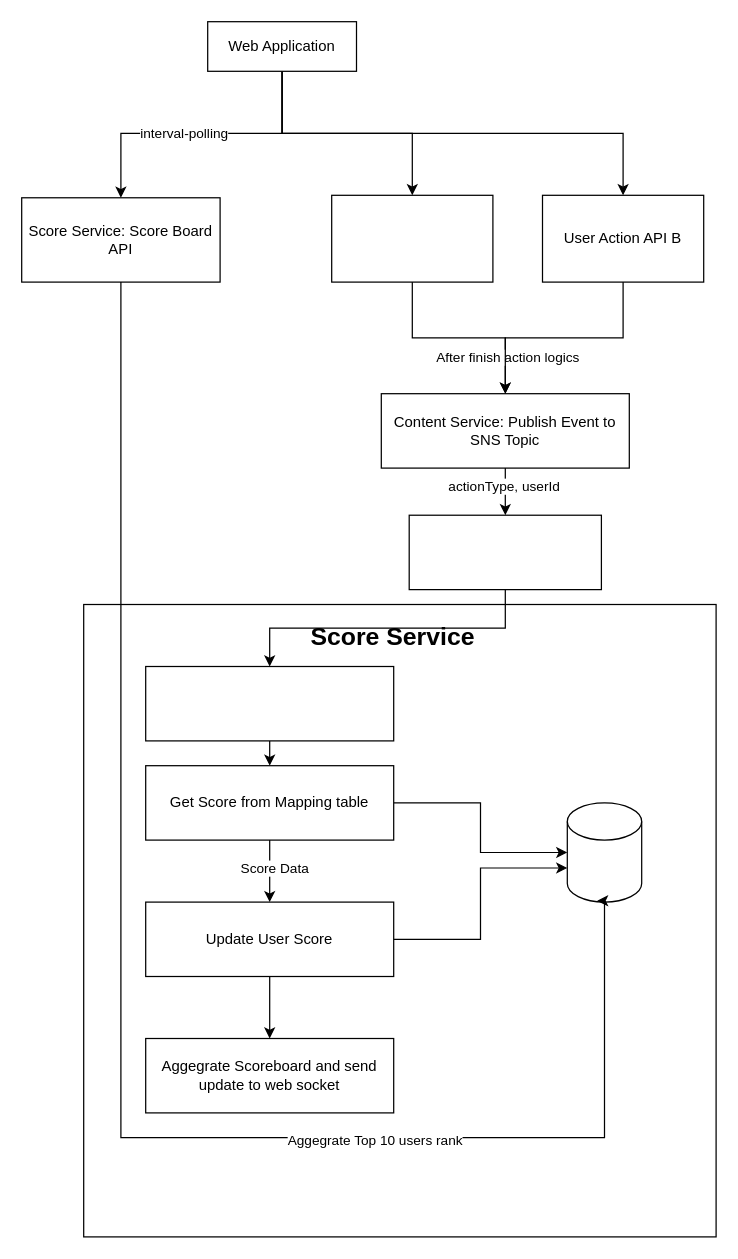
This 738x1259 diagram has some shape labels left out. Each missing label, with the centre of its shape:
"Score DB" belongs at point 604,852.
"SNS Topic: score-updates" belongs at point 504,552.
"SQS: score-updates-queue" belongs at point 269,703.
"User Action API A" belongs at point 411,238.
